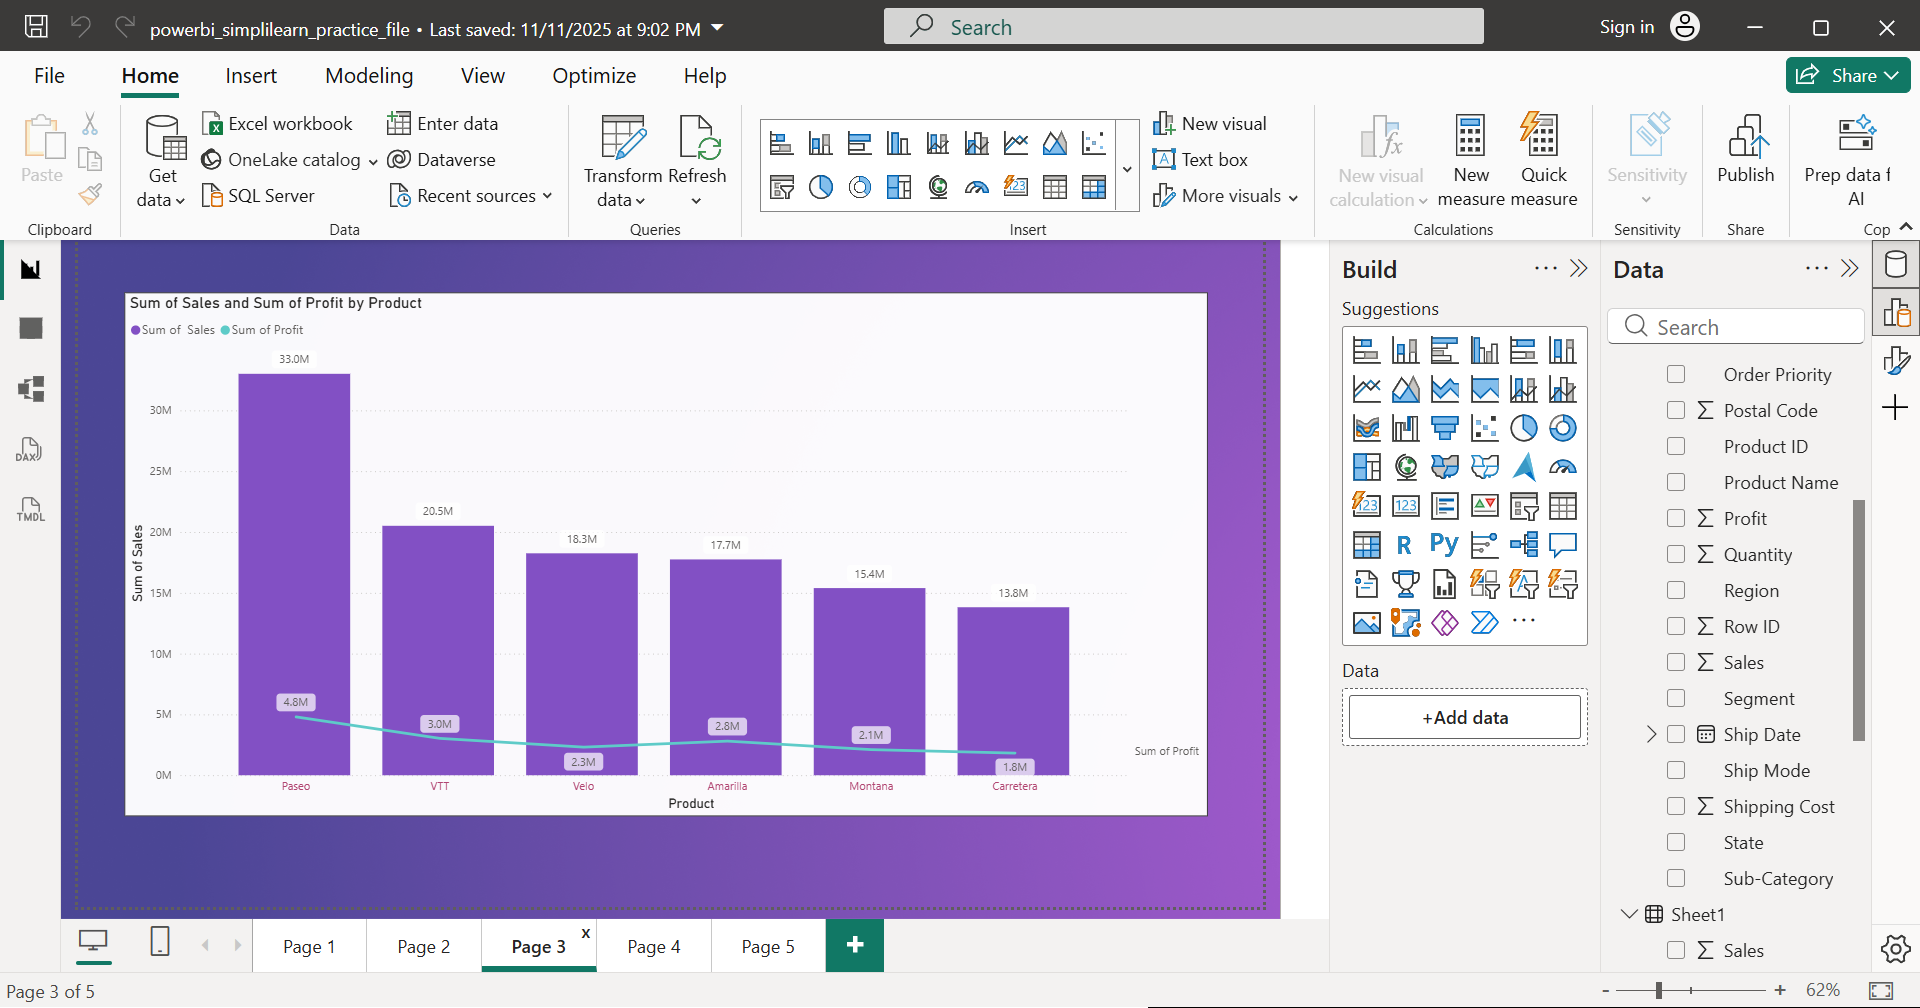

The page's visual inventory and layout, read from the dashboard file:
{"tool":"powerbi","page":{"name":"Page 3","canvas":[1280,720],"ordinal":2},"visuals":[{"type":"lineClusteredColumnComboChart","fields":{"Y":["Sum(Sheet1. Sales)"],"Y2":["Sum(Sheet1.Profit)"],"Category":["Sheet1.Product"]},"box":[50.2,56.7,1169.1,565.1],"z":0}]}

Visuals, with their boxes on the page's 1280x720 design canvas (x1, y1, x2, y2). These are canvas units, not pixel positions in the 1920x1008 screenshot, which may show the page scaled, cropped or inside an application window:
lineClusteredColumnComboChart - Sum(Sheet1. Sales) x Sum(Sheet1.Profit): bbox(50, 57, 1219, 622)
